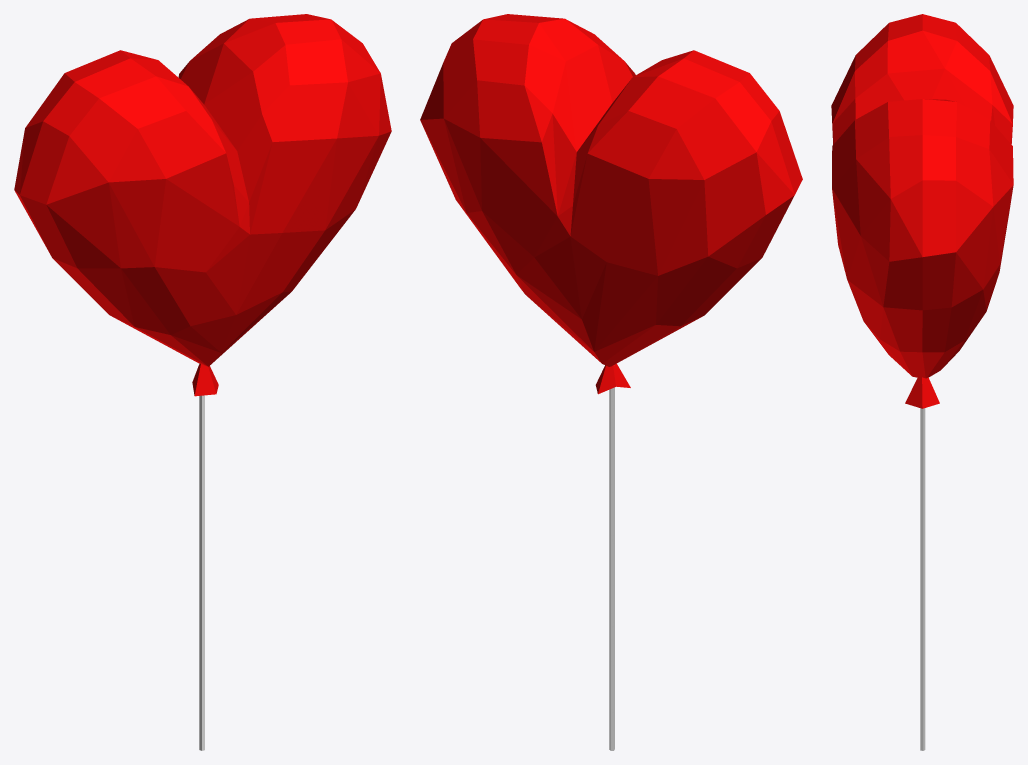
The model's file is balloon.fbx.
3 renders of one model, left to right at view 1: azimuth 30°, elevation 25°; view 2: azimuth 150°, elevation 25°; view 3: azimuth 270°, elevation 25°, orthographic. The views are drawn at different scales.
Visible parts, largest first — view 1: Object_8, Object_12; view 2: Object_8, Object_12; view 3: Object_8, Object_12.
Boxes of the visible parts, x1,y1,x2,y2 form: Object_8: (14, 14, 391, 396); Object_12: (199, 363, 204, 750); Object_8: (420, 14, 802, 394); Object_12: (609, 387, 614, 750); Object_8: (831, 14, 1013, 408); Object_12: (920, 408, 925, 750).
Size of the model in its own units: 1.4 by 2.59 by 0.6231.
